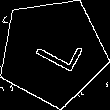L_NW: (23, 26, 82, 77)
